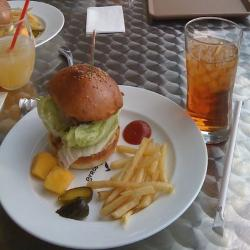burger: (36, 63, 125, 173)
fries: (92, 140, 184, 223)
ketchup: (121, 114, 156, 150)
